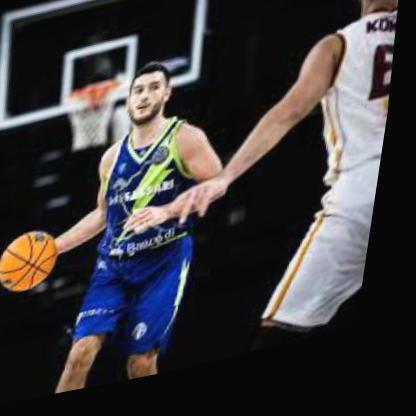basketball: (0, 228, 69, 301)
rim: (65, 83, 129, 109)
